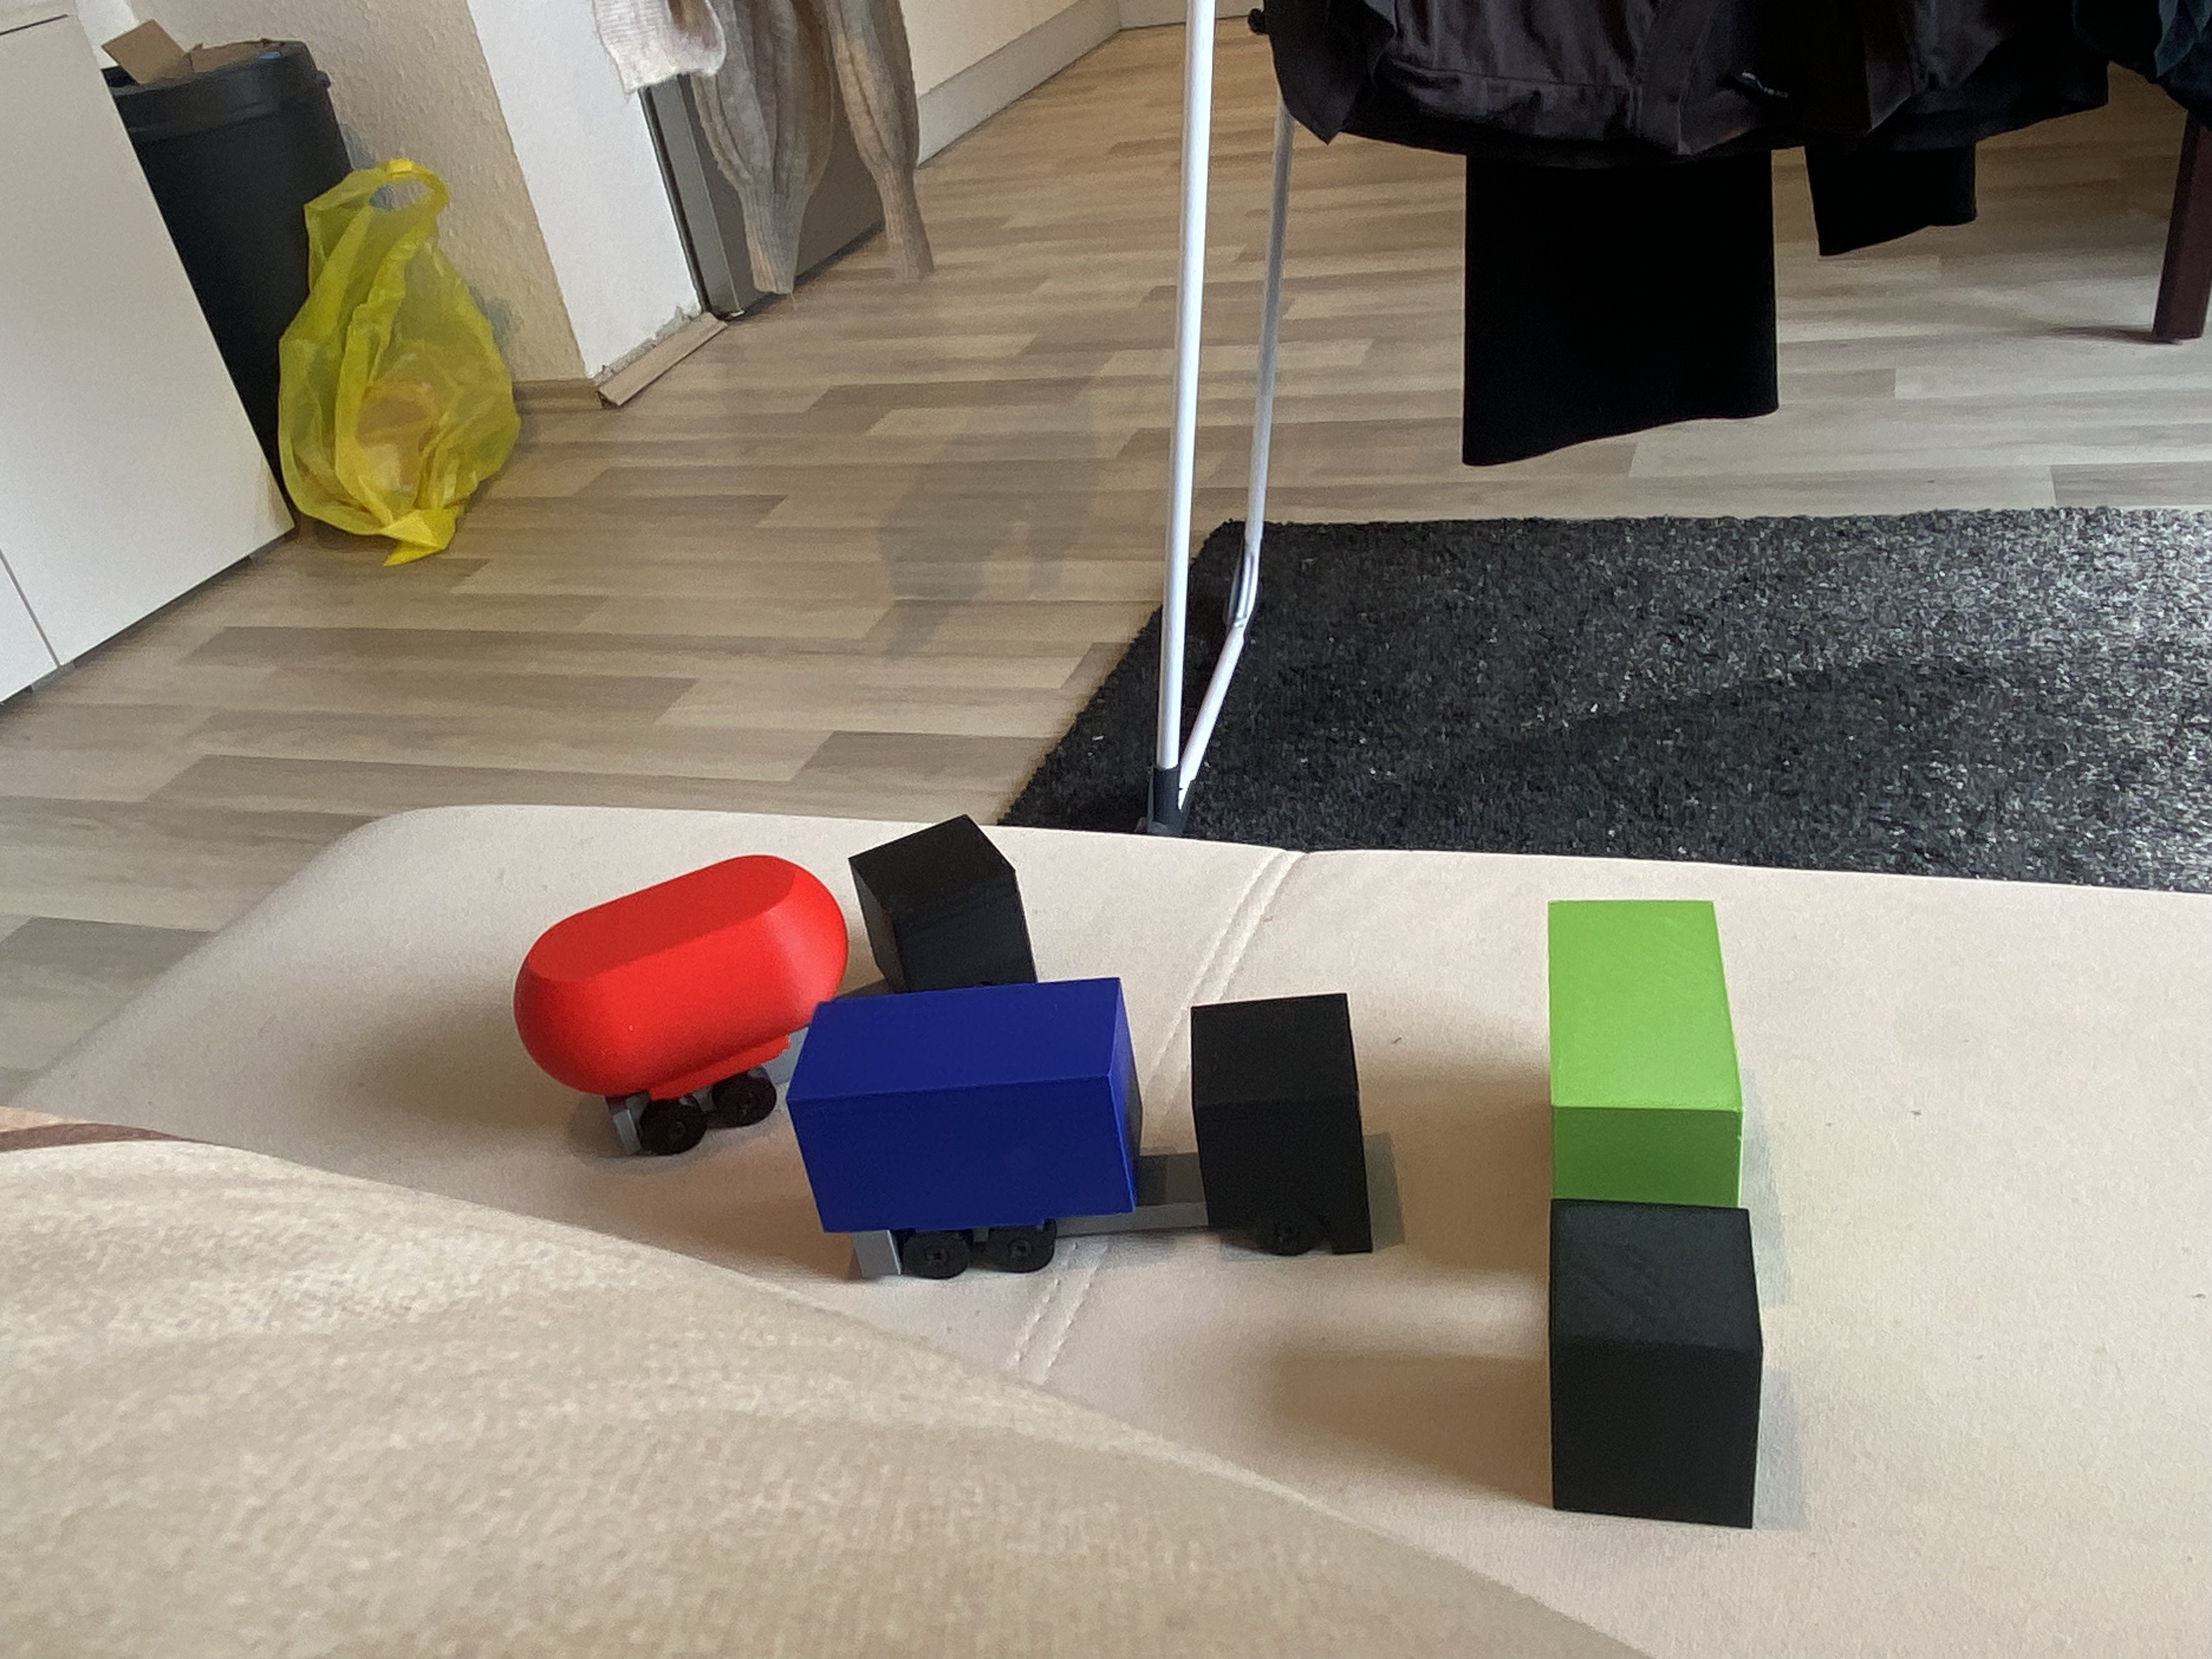blue_truck: (780, 981, 1372, 1267)
green_truck: (1543, 901, 1759, 1520)
red_truck: (507, 843, 1043, 1101)
